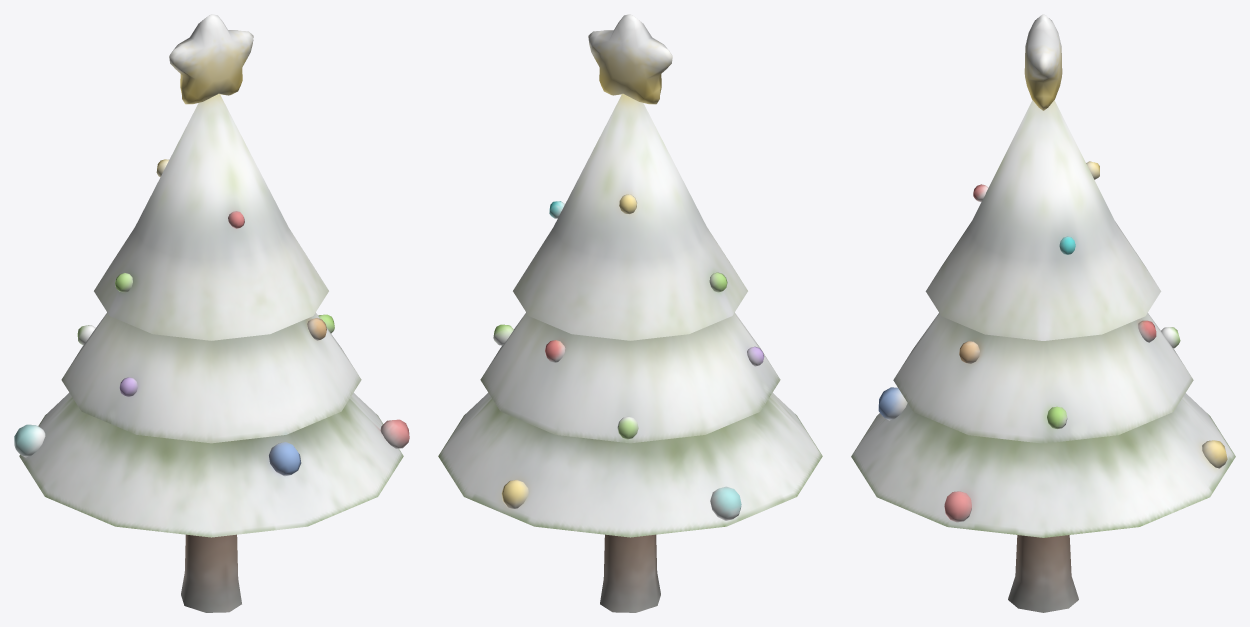
Rendered from Tree_C.fbx.
3 views of the same model, side by side, from view 1: azimuth 30°, elevation 25°; view 2: azimuth 150°, elevation 25°; view 3: azimuth 270°, elevation 25° (orthographic).
Parts seen in each view (by area): view 1: TreeC; view 2: TreeC; view 3: TreeC.
Part boxes in pixels (box(x1,y1,x2,y2)): TreeC: box(14, 14, 409, 612); TreeC: box(438, 14, 822, 612); TreeC: box(851, 14, 1235, 612).
Bounding box in the file's own units: 355 × 595 × 355.
1 material, 1 textured.
